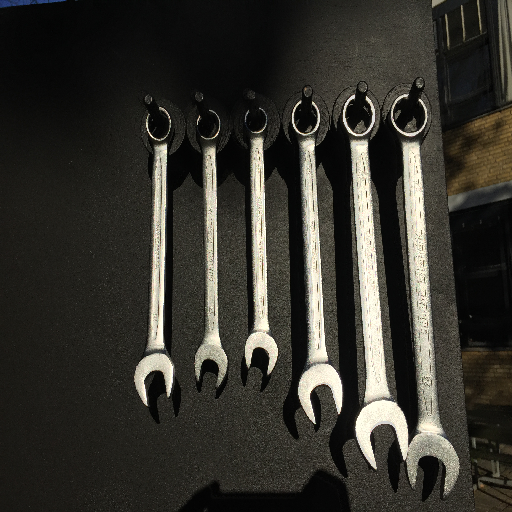bottom: (404, 425, 462, 500), (354, 399, 410, 471), (296, 361, 344, 424), (131, 349, 175, 412), (193, 337, 228, 391), (243, 328, 278, 378)
top: (388, 93, 431, 143), (340, 92, 376, 142), (143, 105, 175, 146), (291, 98, 321, 141), (194, 106, 222, 144), (242, 106, 268, 140)
